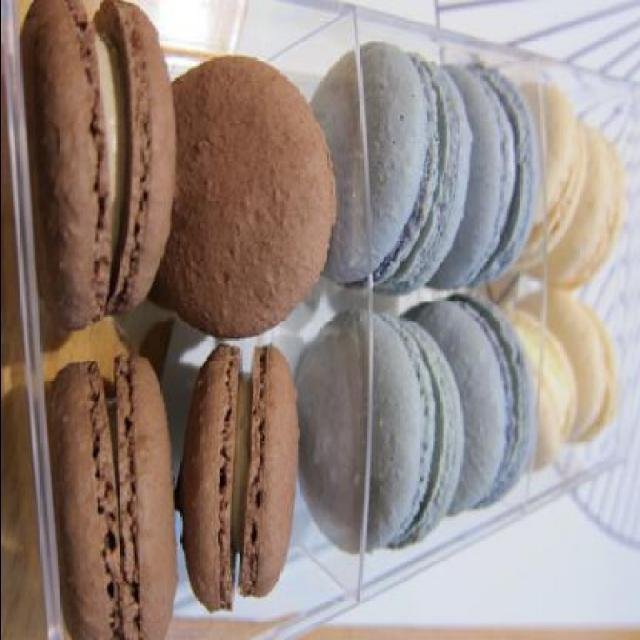Macaron: (25, 4, 623, 638)
